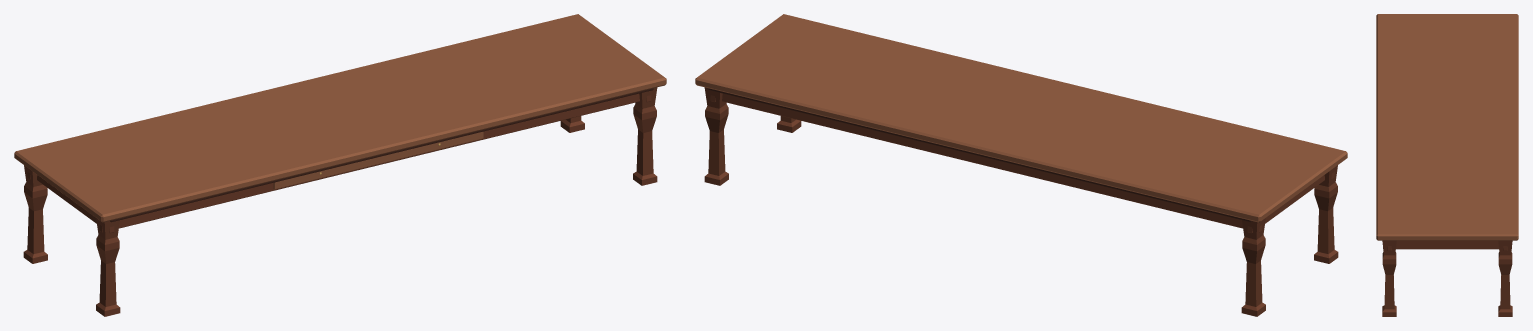
The model's file is table_10.glb.
3 renders of one model, left to right at view 1: azimuth 30°, elevation 25°; view 2: azimuth 150°, elevation 25°; view 3: azimuth 270°, elevation 25°, orthographic. The views are drawn at different scales.
Visible parts, largest first — view 1: Top, Aprons, Leg_0_0, Leg_1_0, Leg_0_1, FrontDrawer, TopUndercut; view 2: Top, Aprons, Leg_0_1, Leg_1_1, Leg_0_0, TopUndercut; view 3: Top, Aprons, Leg_1_0, Leg_1_1.
Boxes of the visible parts, bbox=[...] form: Top: bbox=[14, 14, 666, 222]; Aprons: bbox=[27, 93, 651, 232]; Leg_0_0: bbox=[96, 218, 120, 316]; Leg_1_0: bbox=[633, 87, 657, 185]; Leg_0_1: bbox=[23, 165, 47, 263]; FrontDrawer: bbox=[273, 131, 483, 189]; TopUndercut: bbox=[110, 88, 653, 222]; Top: bbox=[695, 14, 1347, 222]; Aprons: bbox=[710, 93, 1334, 232]; Leg_0_1: bbox=[1241, 218, 1265, 316]; Leg_1_1: bbox=[704, 87, 728, 185]; Leg_0_0: bbox=[1314, 165, 1338, 263]; TopUndercut: bbox=[708, 88, 1251, 222]; Top: bbox=[1376, 14, 1518, 240]; Aprons: bbox=[1383, 240, 1511, 250]; Leg_1_0: bbox=[1382, 240, 1396, 316]; Leg_1_1: bbox=[1498, 240, 1512, 316].
Size of the model in its own units: 4.6 by 0.82 by 1.25.
